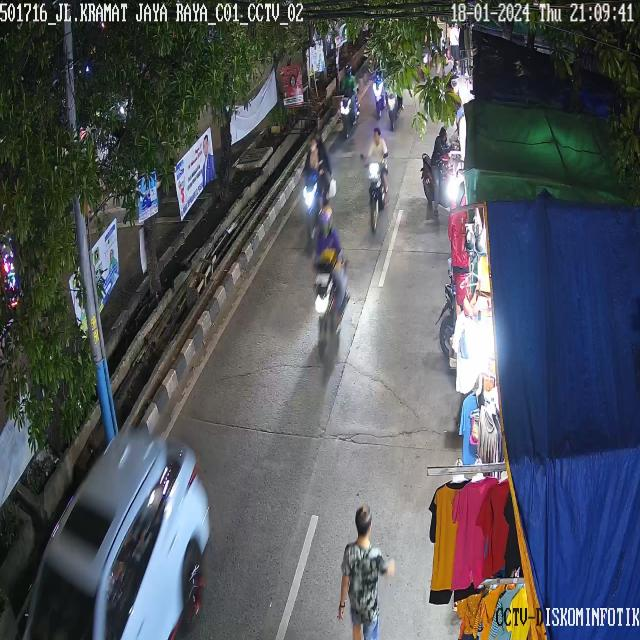Terpal: (482, 187, 640, 635), (459, 91, 640, 211), (462, 18, 640, 132)
